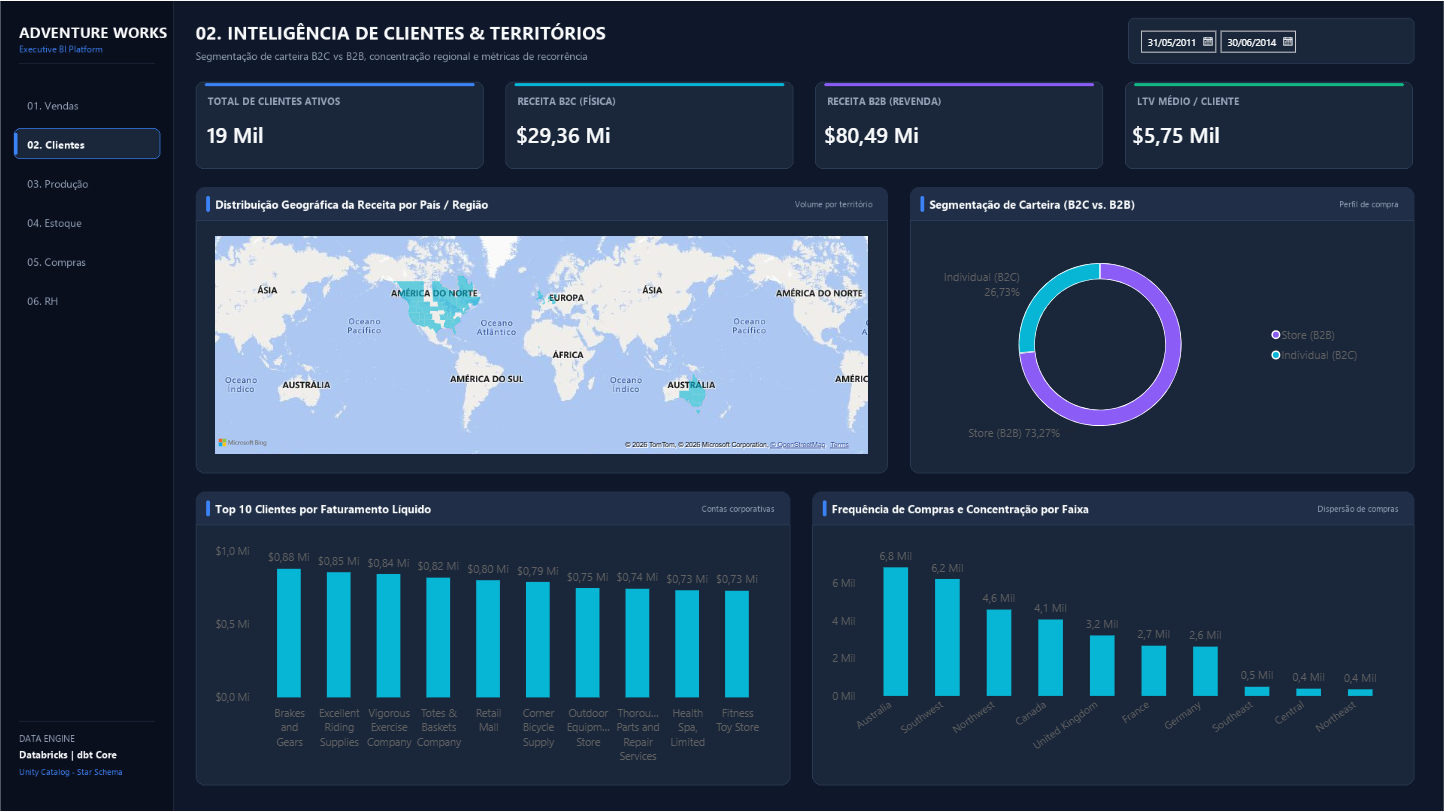

The dashboard page shown, as its layout file describes it:
{"tool":"powerbi","page":{"name":"Clientes","canvas":[1920,1080],"ordinal":1},"visuals":[{"type":"slicer","fields":{"Values":["dates.calendar_date"]},"box":[1510,35,360,45],"z":0},{"type":"cardVisual","fields":{"Data":["d_Medidas.Clientes Ativos"]},"box":[260,140,380,75],"z":1000},{"type":"cardVisual","fields":{"Data":["d_Medidas.Receita B2C"]},"box":[670,140,380,75],"z":2000},{"type":"cardVisual","fields":{"Data":["d_Medidas.Receita B2B"]},"box":[1080,140,380,75],"z":3000},{"type":"cardVisual","fields":{"Data":["d_Medidas.Receita Média por Cliente"]},"box":[1490,140,380,75],"z":4000},{"type":"filledMap","fields":{"Category":["customers.country_region_name","customers.state_province_name"]},"box":[270,298,900,320],"z":5000},{"type":"donutChart","fields":{"Category":["customers.customer_type"],"Y":["d_Medidas.Receita Líquida"]},"box":[1220,298,611,320],"z":6000},{"type":"clusteredColumnChart","fields":{"Category":["customers.customer_name"],"Y":["d_Medidas.Receita Líquida"]},"box":[270,702,770,330],"z":7000},{"type":"clusteredColumnChart","fields":{"Category":["customers.territory_name"],"Y":["d_Medidas.Total Pedidos"]},"box":[1090,702,780,330],"z":8000}]}

Visuals, with their boxes on the page's 1920x1080 design canvas (x1, y1, x2, y2). These are canvas units, not pixel positions in the 1444x812 screenshot, which may show the page scaled, cropped or inside an application window:
slicer - dates.calendar_date: [x1=1510, y1=35, x2=1870, y2=80]
cardVisual - d_Medidas.Clientes Ativos: [x1=260, y1=140, x2=640, y2=215]
cardVisual - d_Medidas.Receita B2C: [x1=670, y1=140, x2=1050, y2=215]
cardVisual - d_Medidas.Receita B2B: [x1=1080, y1=140, x2=1460, y2=215]
cardVisual - d_Medidas.Receita Média por Cliente: [x1=1490, y1=140, x2=1870, y2=215]
filledMap - customers.country_region_name x customers.state_province_name: [x1=270, y1=298, x2=1170, y2=618]
donutChart - customers.customer_type x d_Medidas.Receita Líquida: [x1=1220, y1=298, x2=1831, y2=618]
clusteredColumnChart - customers.customer_name x d_Medidas.Receita Líquida: [x1=270, y1=702, x2=1040, y2=1032]
clusteredColumnChart - customers.territory_name x d_Medidas.Total Pedidos: [x1=1090, y1=702, x2=1870, y2=1032]
